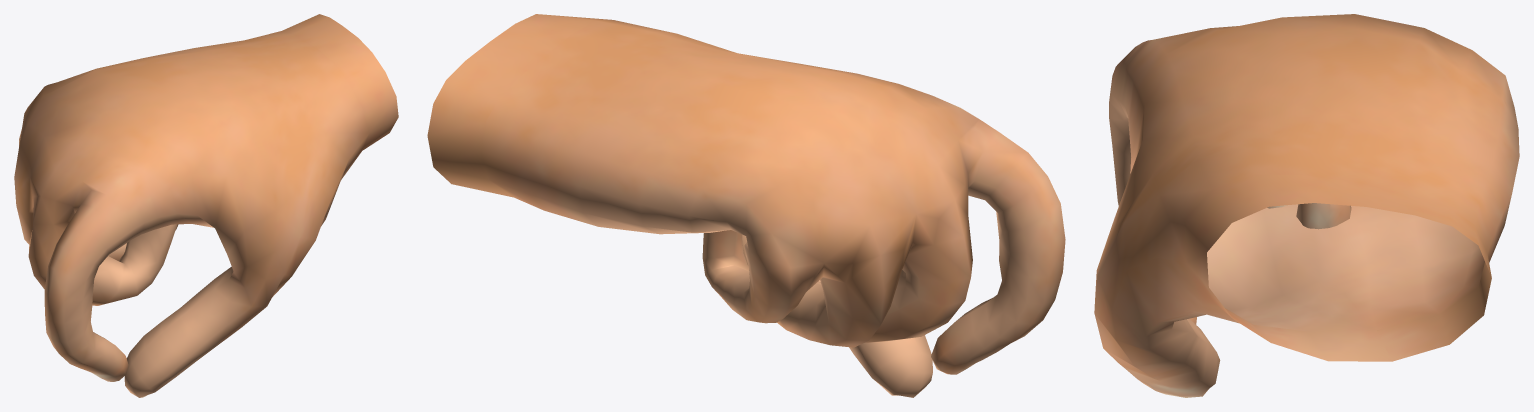
The model's file is H_thumb_index.fbx.
3 views of the same model, side by side, from view 1: azimuth 30°, elevation 25°; view 2: azimuth 150°, elevation 25°; view 3: azimuth 270°, elevation 25° (orthographic). The views are drawn at different scales.
Visible parts, largest first — view 1: H_thumb_index; view 2: H_thumb_index; view 3: H_thumb_index.
Part boxes in pixels (x1,y1,x2,y2): H_thumb_index: (14,14,398,397); H_thumb_index: (427,14,1065,397); H_thumb_index: (1094,14,1519,397).
Bounding box in the file's own units: 14.3 × 9.52 × 9.35.
Materials: 1 (1 with a texture image).
